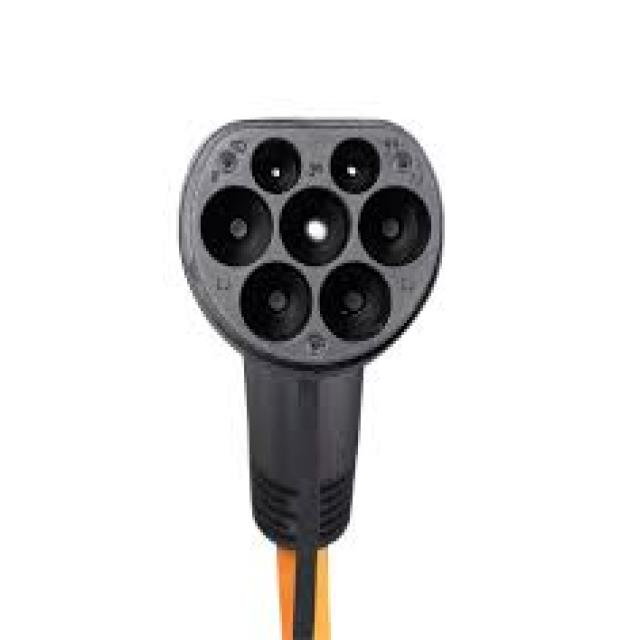Type 2: (140, 72, 456, 394)
